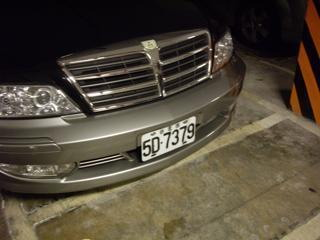plate: (137, 117, 198, 159)
